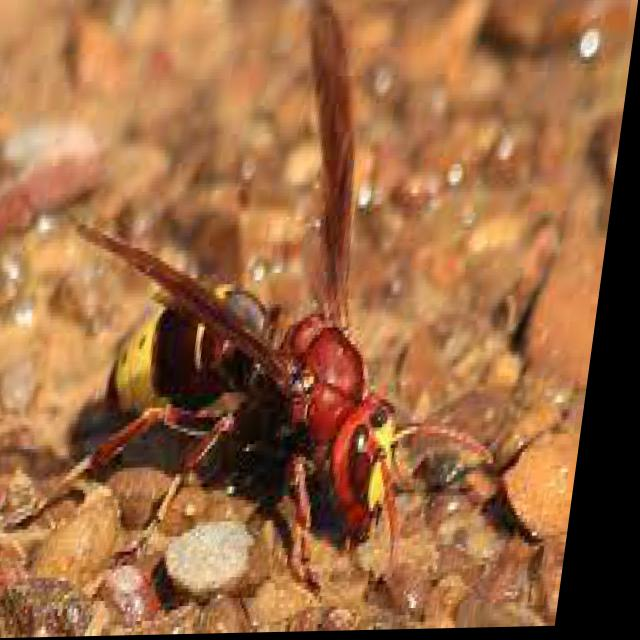Vespa Orientalis: (0, 0, 566, 615)
